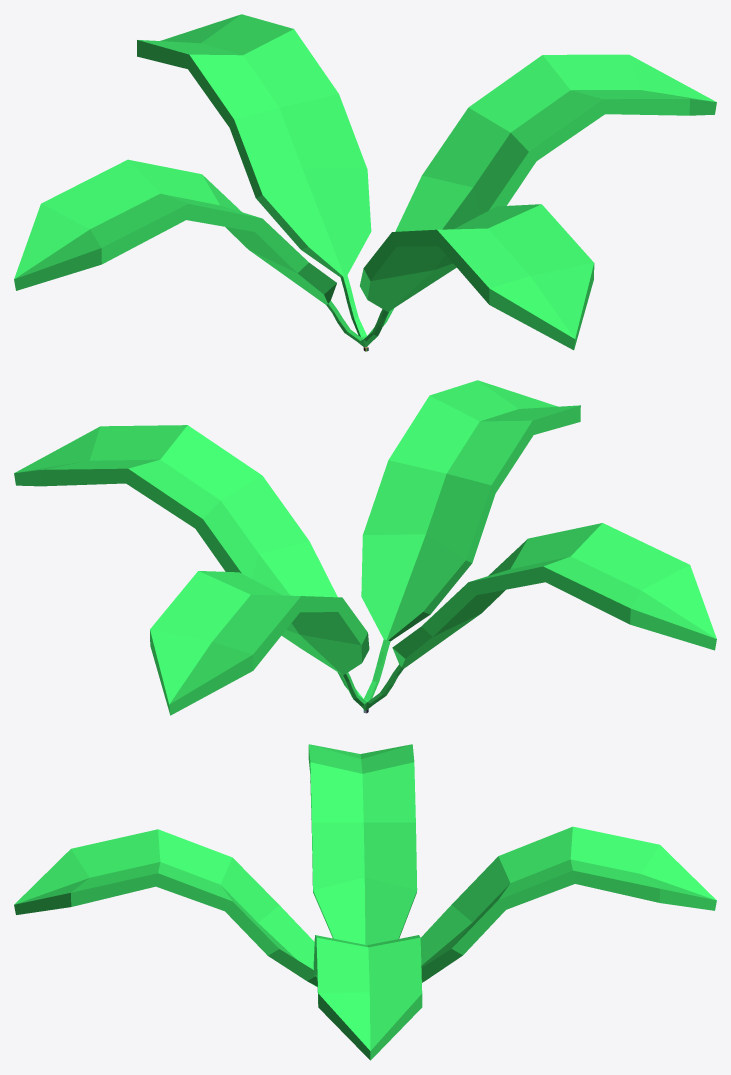
The model's file is Planta.fbx.
3 views of the same model, one above another, from view 1: azimuth 30°, elevation 25°; view 2: azimuth 150°, elevation 25°; view 3: azimuth 270°, elevation 25° (orthographic). The views are drawn at different scales.
Parts seen in each view (by area): view 1: Planta; view 2: Planta; view 3: Planta.
Part boxes in pixels (x1,y1,x2,y2): Planta: (14, 14, 716, 351); Planta: (14, 380, 716, 715); Planta: (14, 744, 716, 1060).
Size of the model in its own units: 1.18 by 0.3516 by 1.18.
